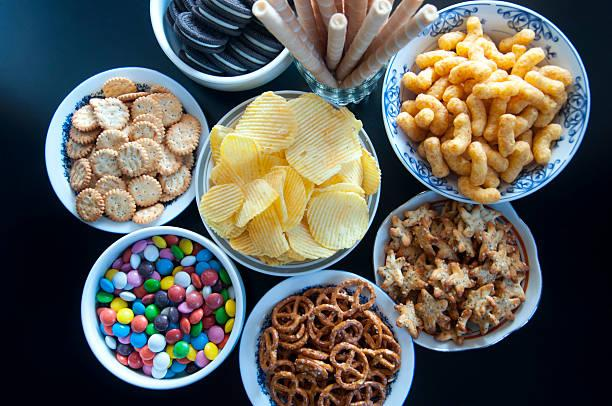Braised Crucian Carp: (381, 3, 587, 205), (193, 90, 374, 276), (45, 66, 210, 232), (374, 188, 542, 351), (80, 225, 243, 389), (237, 268, 414, 405), (151, 0, 297, 91)
